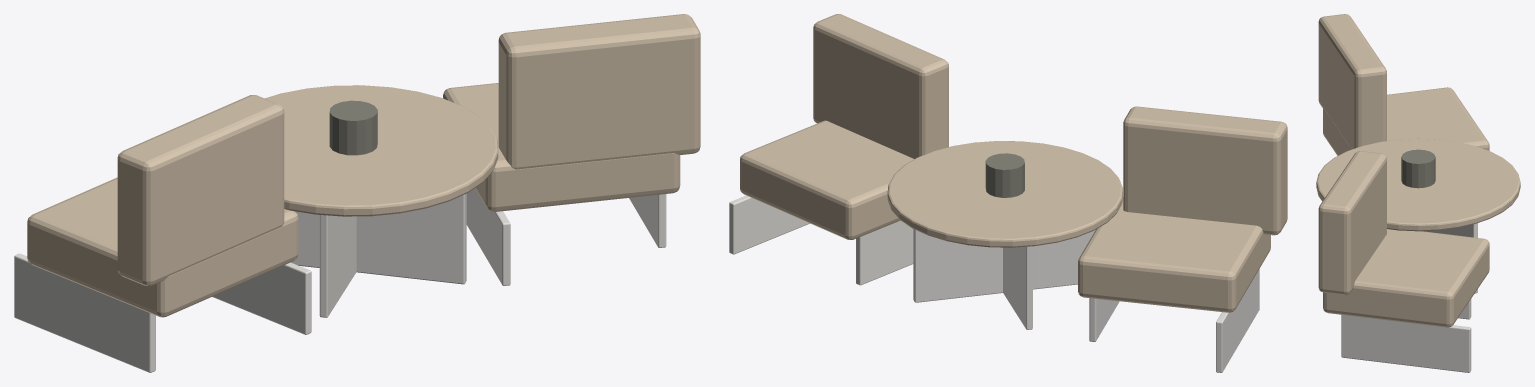
The model's file is modern_office_asset_library_board_14.glb.
3 views of the same model, side by side, from view 1: azimuth 30°, elevation 25°; view 2: azimuth 150°, elevation 25°; view 3: azimuth 270°, elevation 25° (orthographic). The views are drawn at different scales.
Parts seen in each view (by area): view 1: Cylinder; view 2: Cylinder; view 3: Cylinder.
Boxes of the visible parts, x1=… form: Cylinder: x1=14, y1=14, x2=700, y2=372; Cylinder: x1=729, y1=14, x2=1287, y2=372; Cylinder: x1=1316, y1=14, x2=1520, y2=372.
Size of the model in its own units: 2.03 by 0.72 by 0.84.
